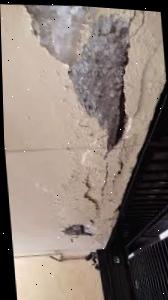exposed_rebar: (115, 87, 126, 142)
spalling: (25, 5, 129, 149), (62, 224, 92, 235)
